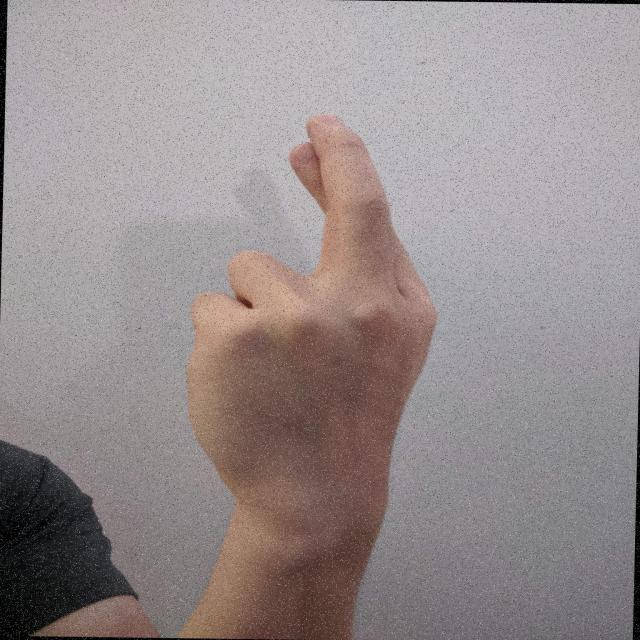R: (172, 108, 454, 534)
